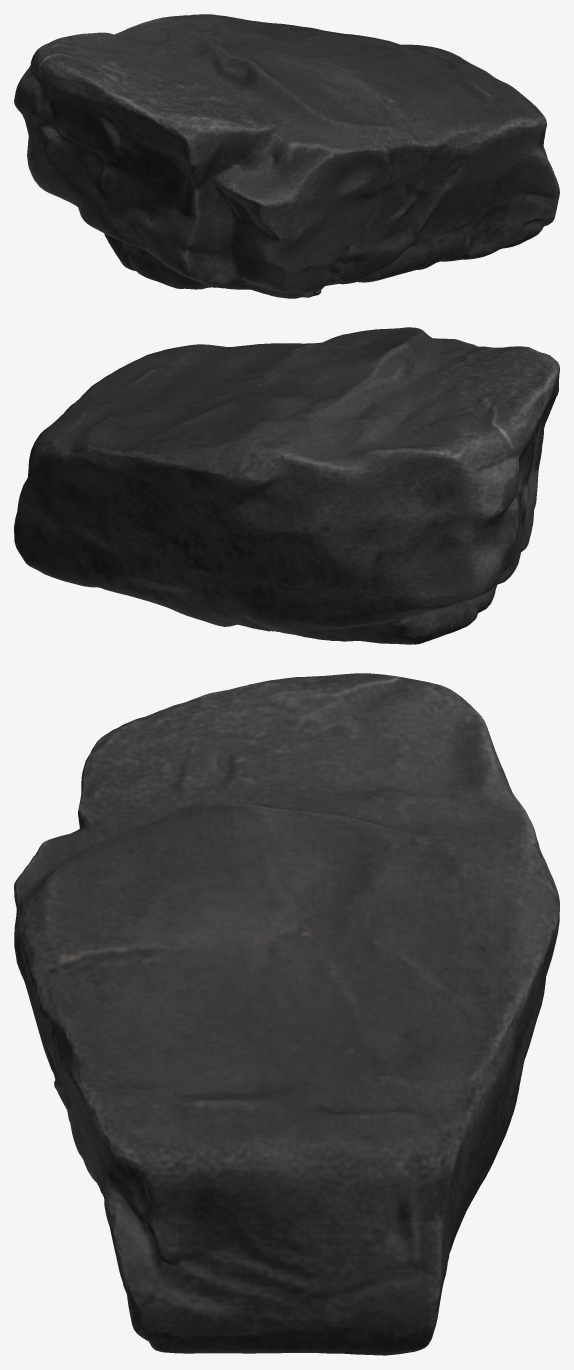
The picture shows the model from 3 angles, top to bottom: view 1: azimuth 30°, elevation 25°; view 2: azimuth 150°, elevation 25°; view 3: azimuth 270°, elevation 25°; orthographic projection. The views are drawn at different scales.
Parts seen in each view (by area): view 1: world; view 2: world; view 3: world.
Boxes of the visible parts, x1,y1,x2,y2 form: world: (14, 14, 559, 298); world: (14, 327, 559, 644); world: (14, 673, 559, 1355).
Size of the model in its own units: 3.5 by 1.75 by 2.33.
1 material, 1 textured.
